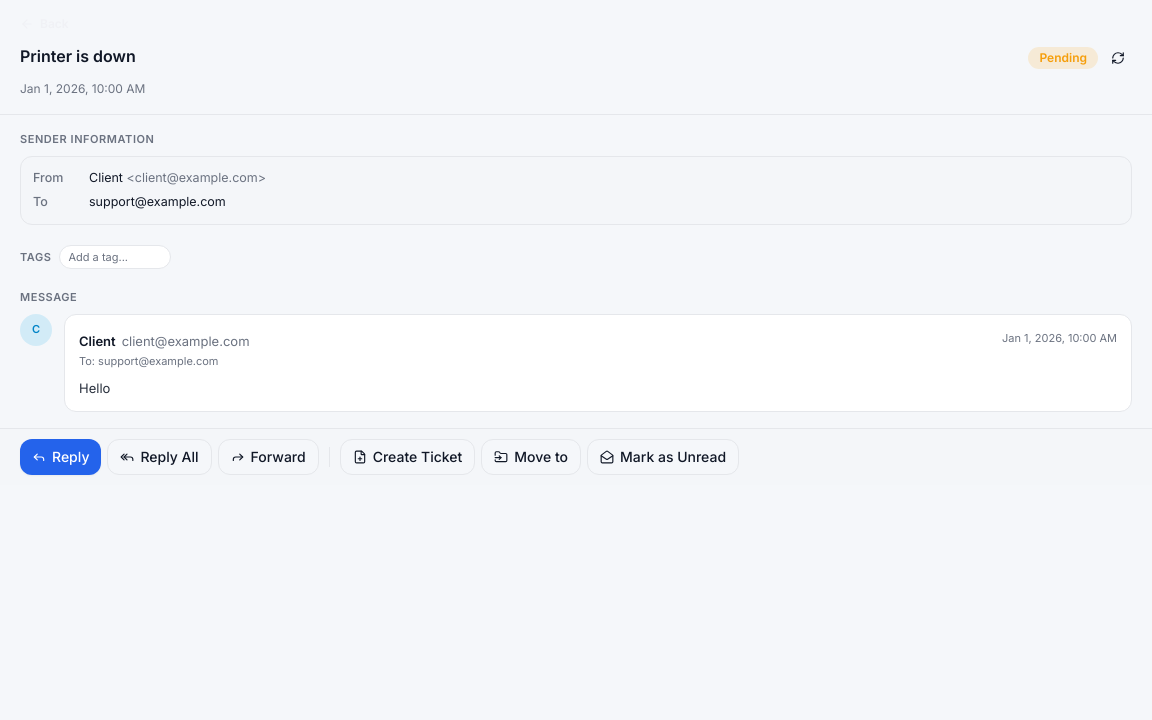
Test: Create Ticket dialog - Team Lead staff assignment › shows the empty-state message only when the category genuinely has no staff, and blocks Create
This screenshot has width=1152, height=720.
Click the button "Create Ticket": click(408, 457) [340,439,475,475]
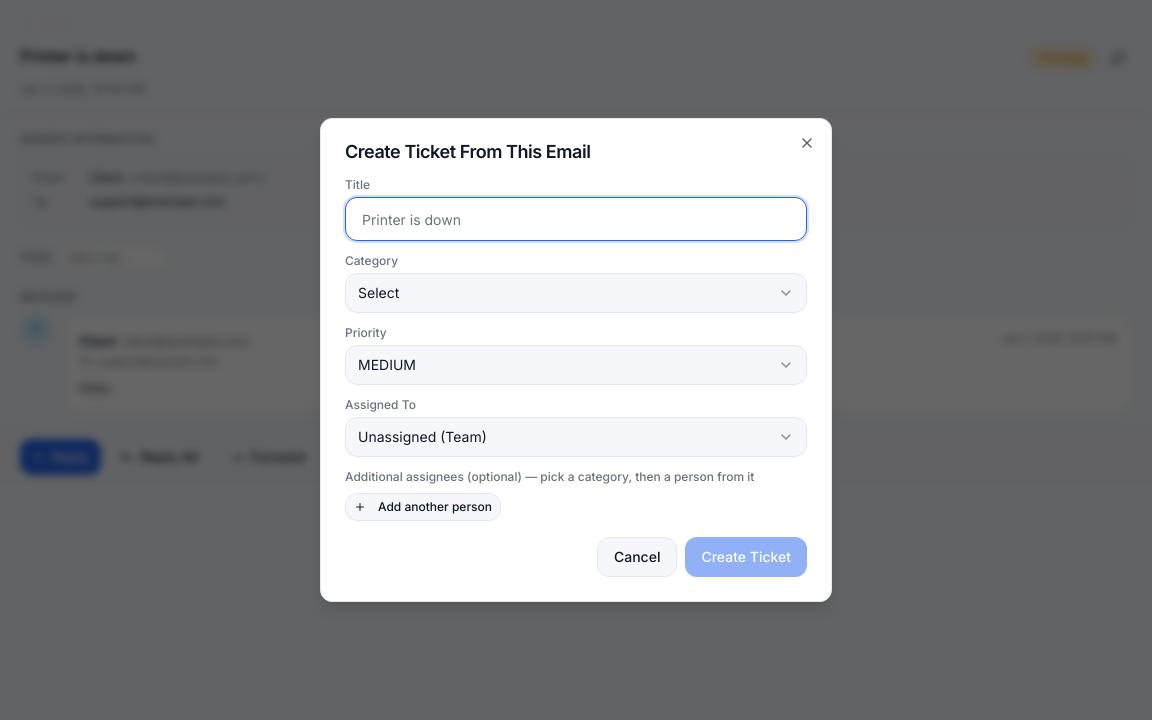
Click the dropdown labelled "Select": click(379, 292) [345,273,807,313]
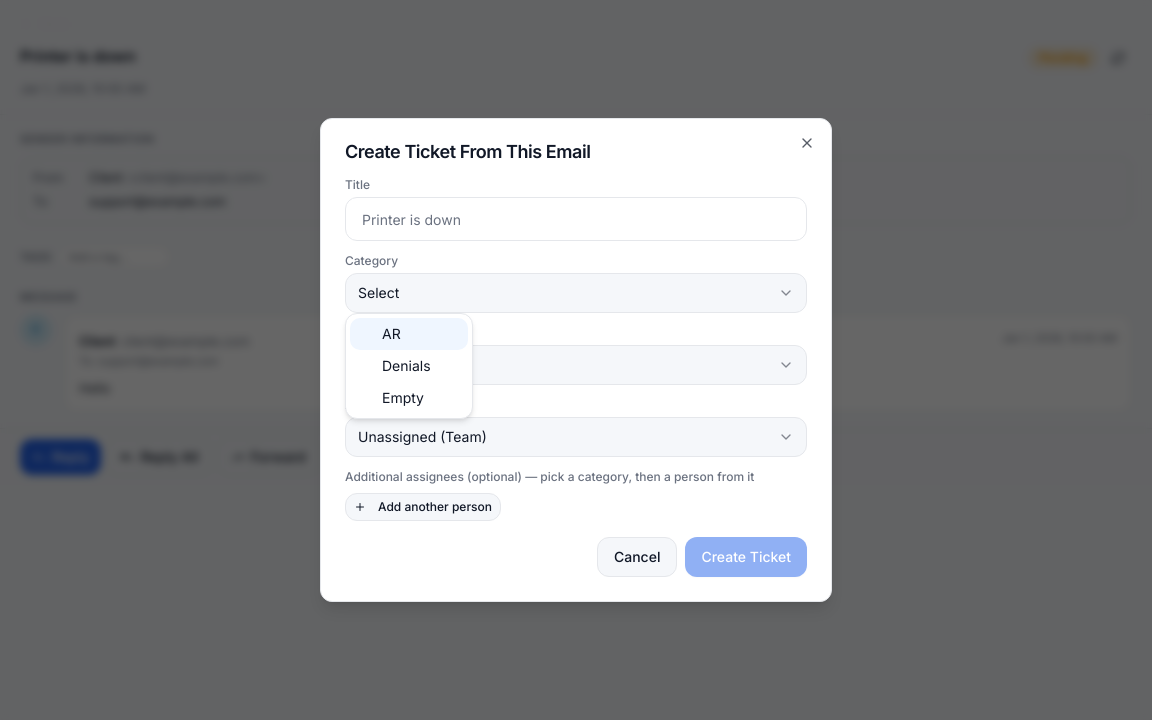
Click the option "Empty": click(403, 398) [382,389,424,406]
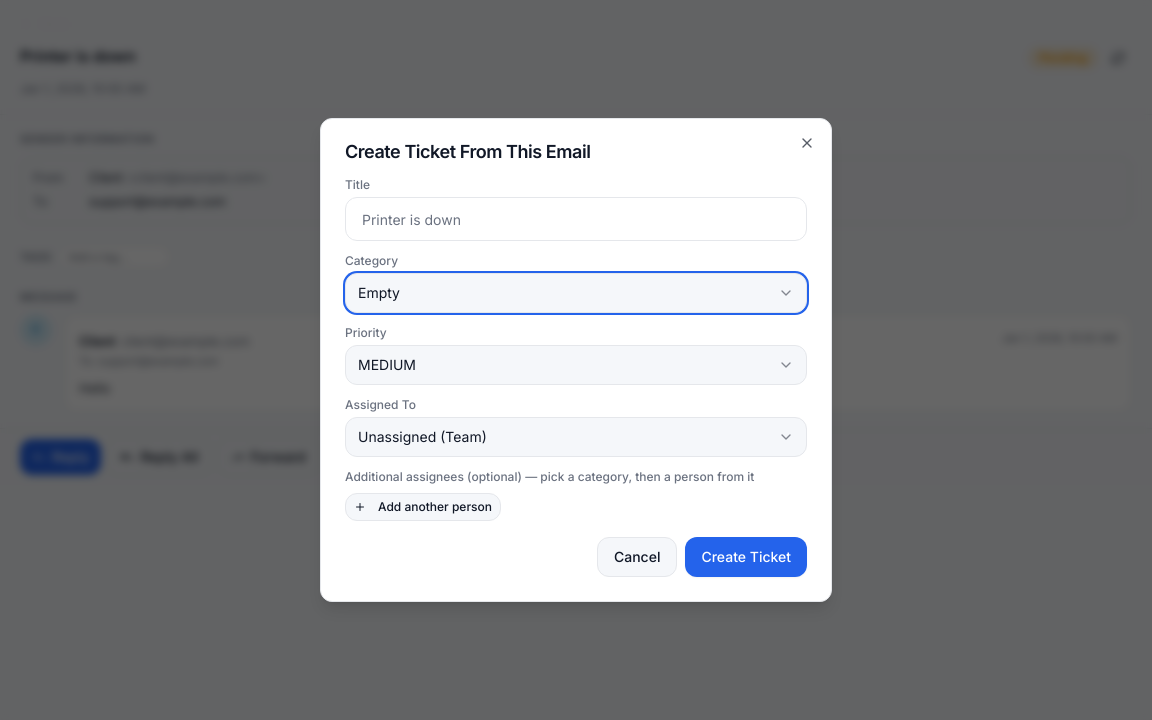
Click the dropdown labelled "Unassigned (Team)": click(422, 436) [345,417,807,457]
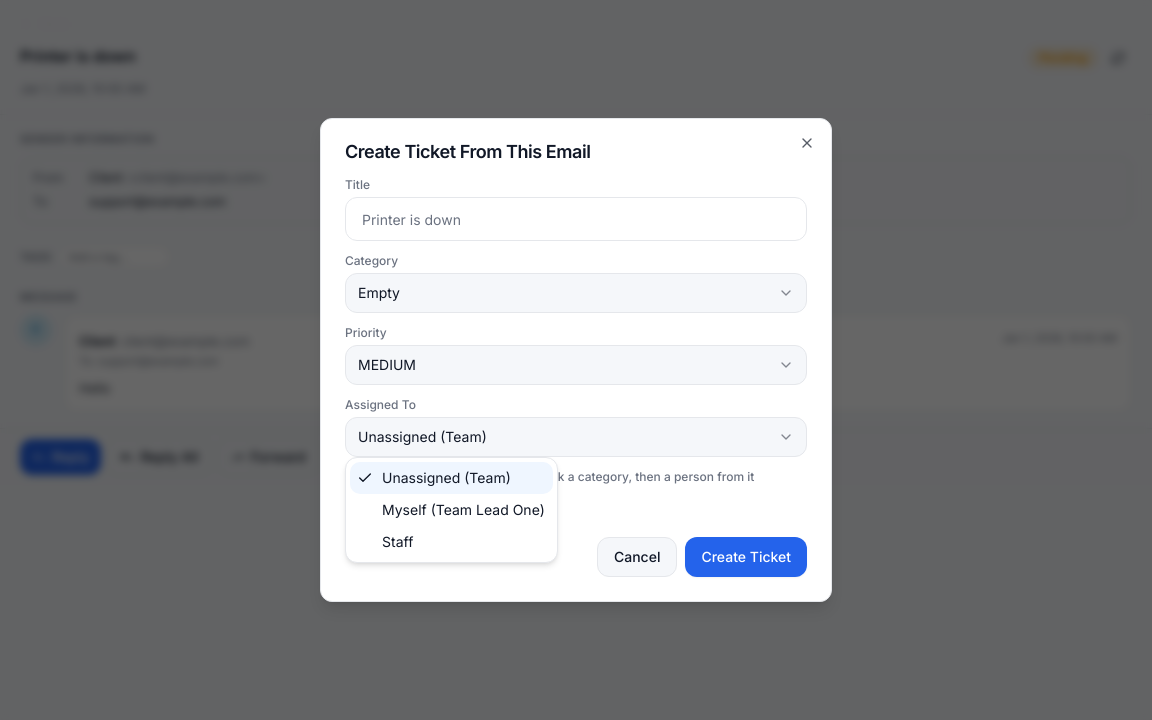
Click the option "Staff": click(398, 542) [382,533,413,550]
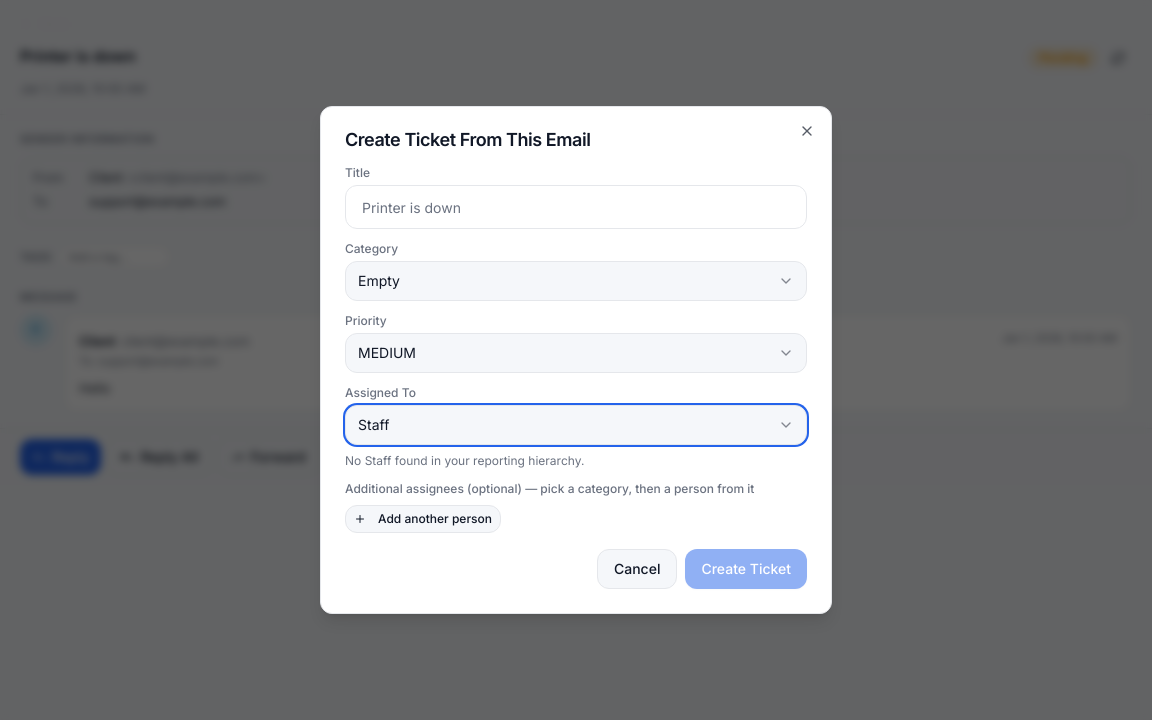
Now the text "No Staff found in your reporting hierarchy." is shown, box [345,453,584,468]
Now the button "Create Ticket" is disabled, box [685,549,807,589]
